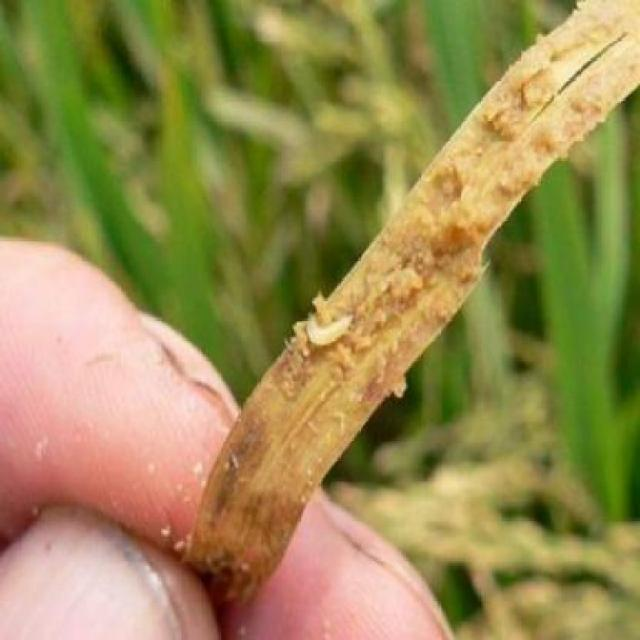whorl-maggot: (302, 304, 362, 354)
